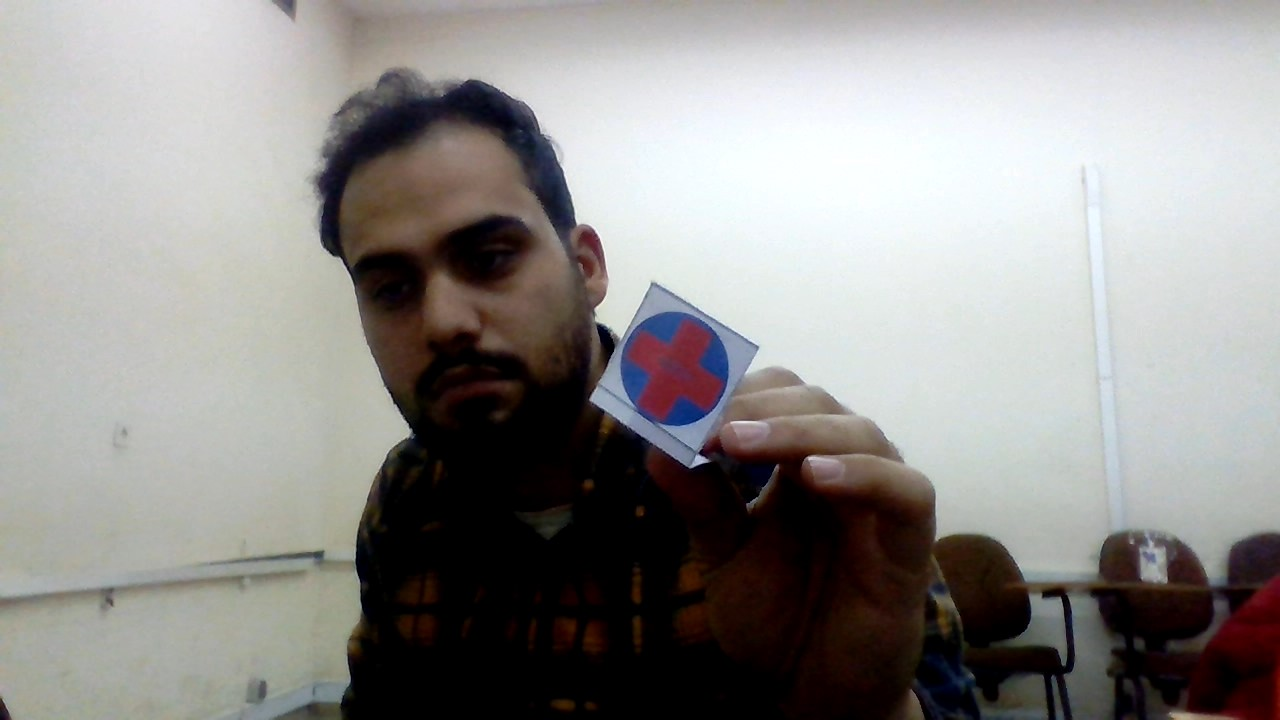bmc: (618, 311, 726, 424)
